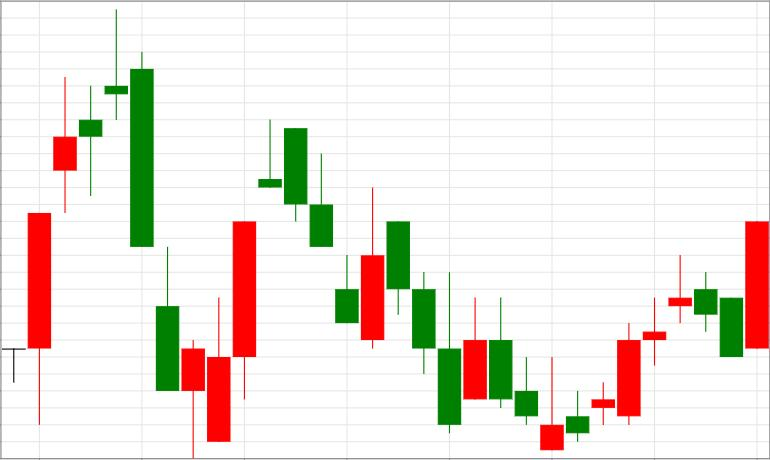bullish_engulfing_rise: (258, 119, 384, 348)
